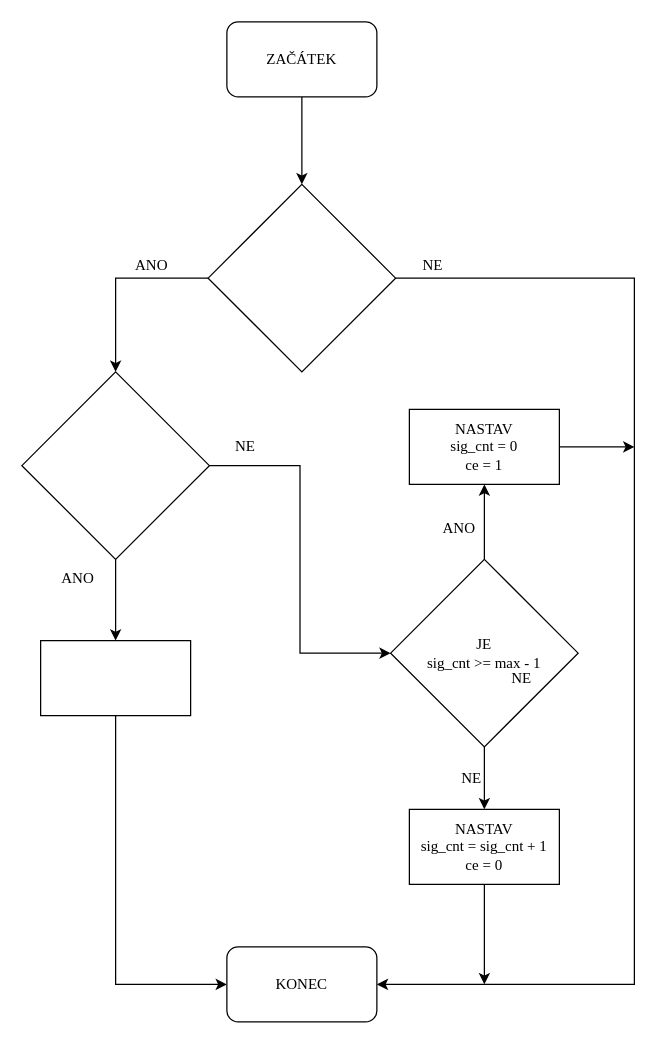
This 666x1044 diagram has some shape labels left out. Here are the shapes that lost their labels. From the top down, the centre of each, then its label:
point (301, 277): JE ČASOVACÍ SIGNÁL NA NÁSTUPNÍ HRANĚ
point (115, 465): JE SIGNÁL rst = 1
point (115, 677): NASTAV sig_cnt = 0 ce = 0
